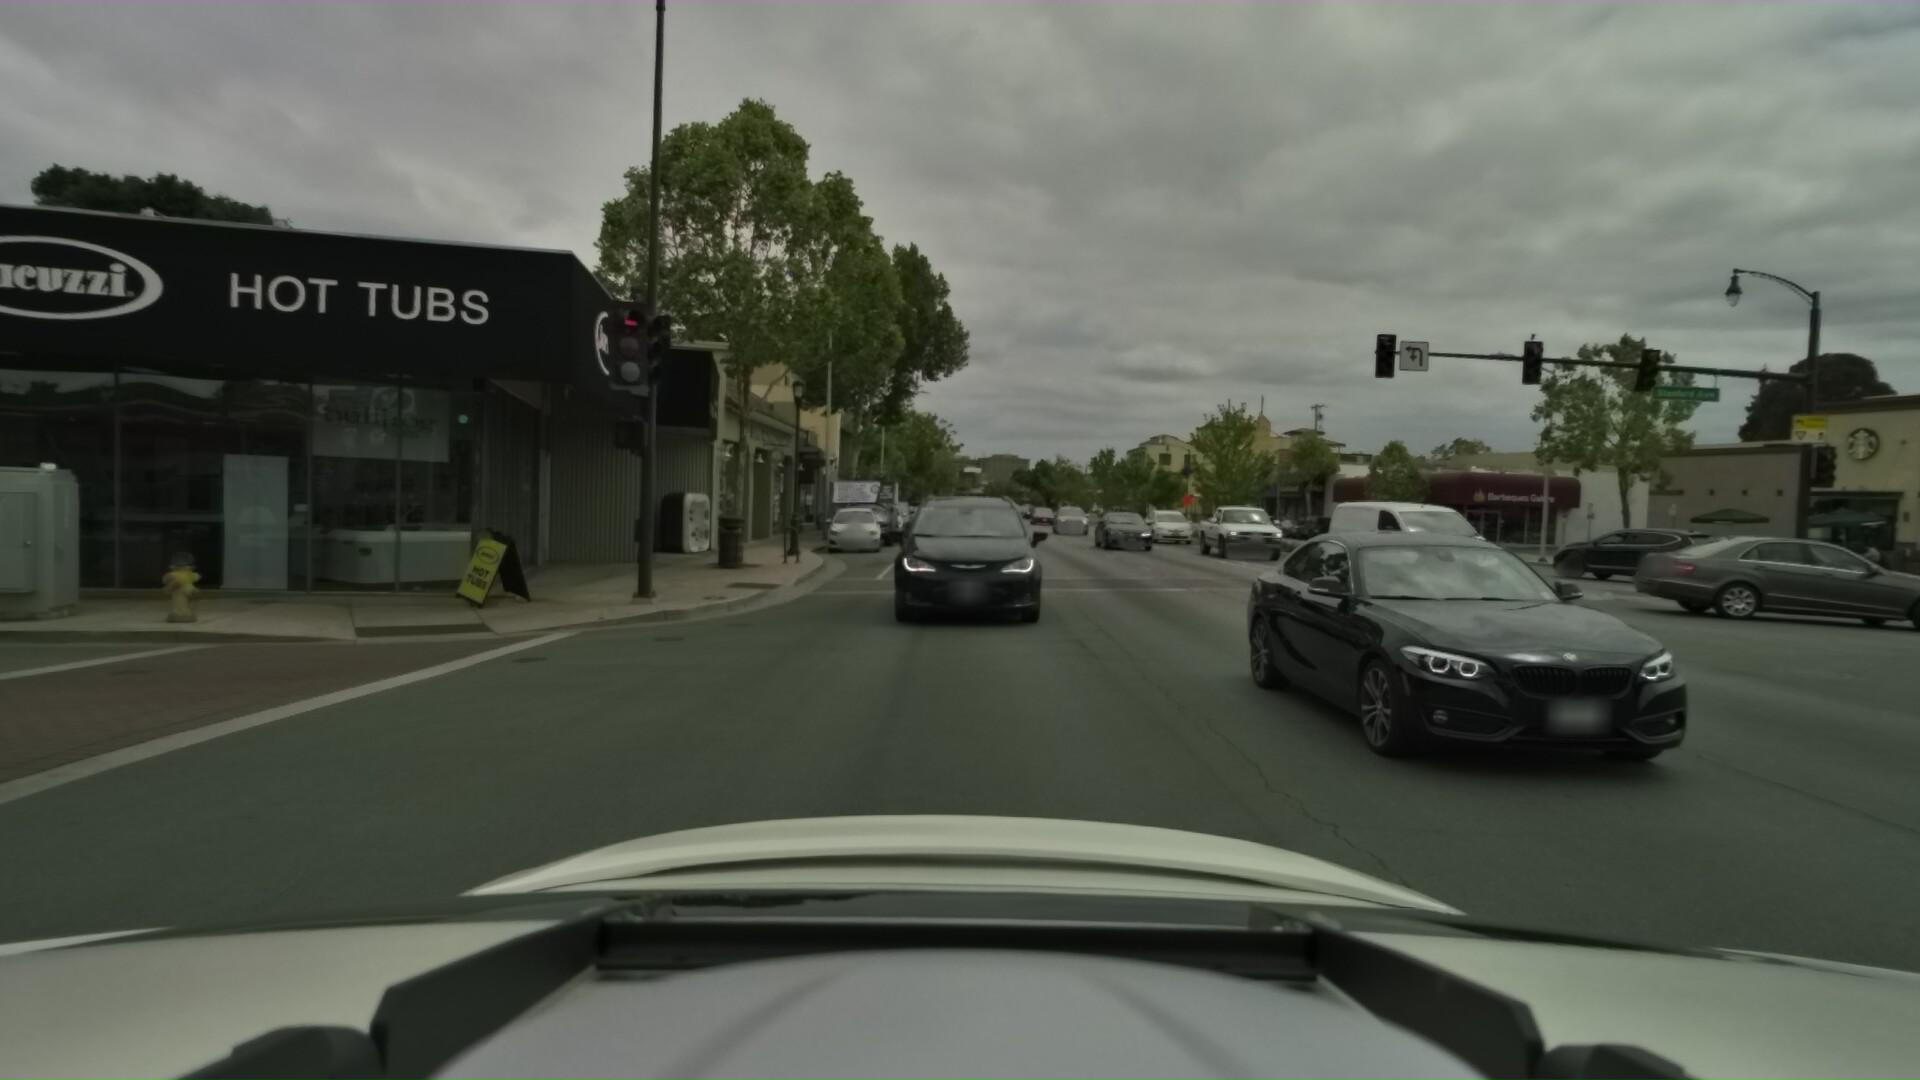car: (1188, 488, 1644, 758), (1593, 520, 1920, 633), (866, 479, 1062, 636), (1298, 495, 1495, 595), (1520, 513, 1721, 580), (1187, 491, 1278, 558), (811, 493, 887, 553), (1083, 497, 1149, 550), (843, 496, 899, 543), (1134, 500, 1191, 545), (872, 495, 918, 535), (861, 497, 909, 534), (1046, 496, 1087, 530), (1025, 496, 1055, 522)
